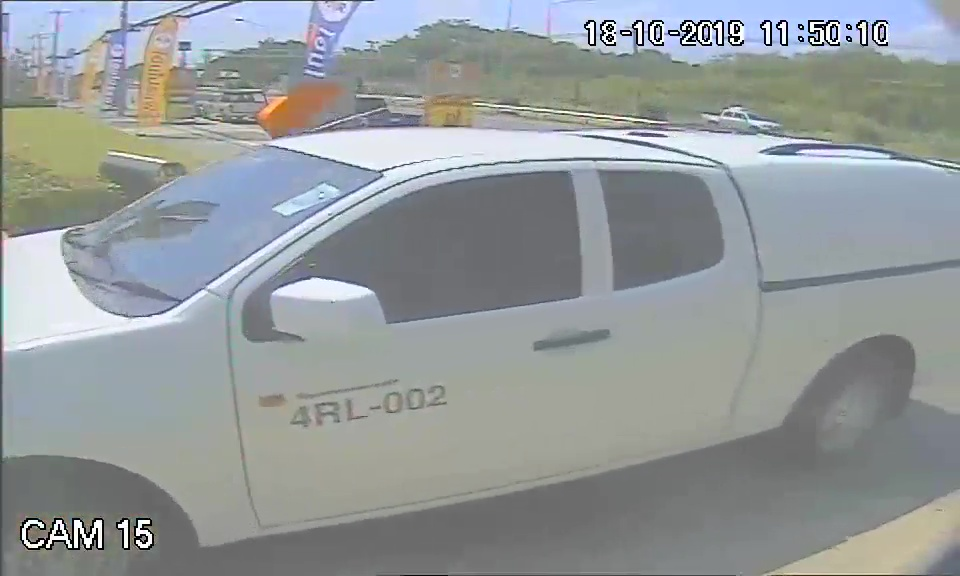pickup: (12, 122, 949, 532)
